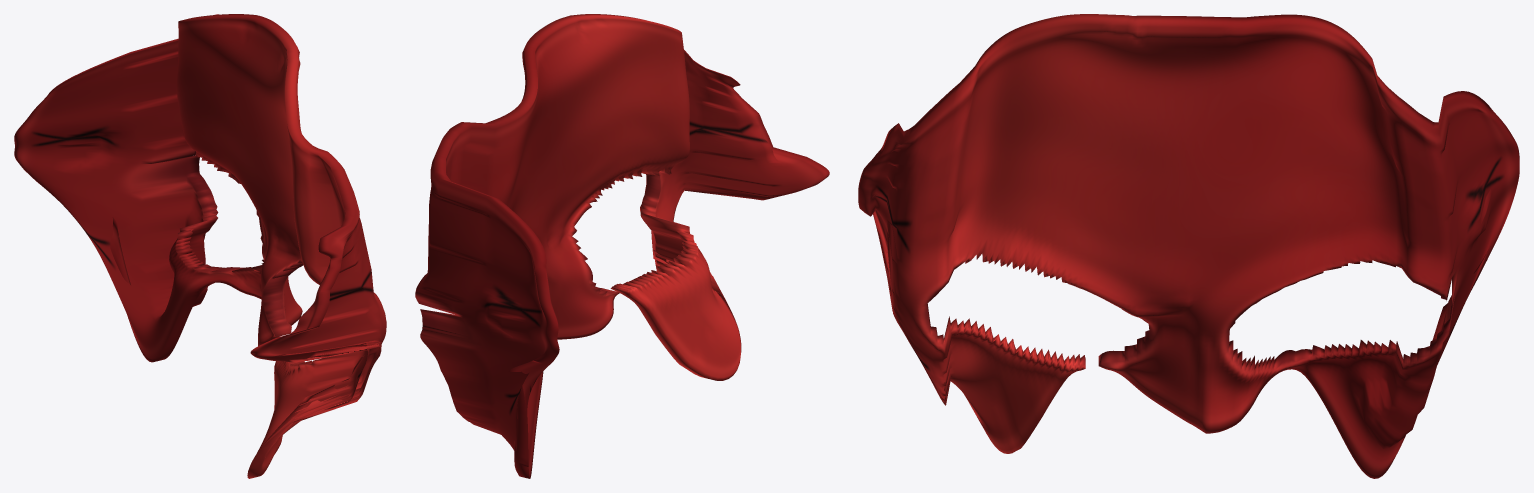
File: side_sakeseller_portrait_scarlet_mask.glb
The picture shows the model from 3 angles, left to right: view 1: azimuth 30°, elevation 25°; view 2: azimuth 150°, elevation 25°; view 3: azimuth 270°, elevation 25°; orthographic projection. The views are drawn at different scales.
Visible parts, largest first — view 1: geometry_0; view 2: geometry_0; view 3: geometry_0.
Boxes of the visible parts, x1,y1,x2,y2 form: geometry_0: (14,14,386,478); geometry_0: (415,14,829,478); geometry_0: (858,14,1519,478).
Size of the model in its own units: 3.83 by 7.45 by 9.16.
Materials: 1 (1 with a texture image).
